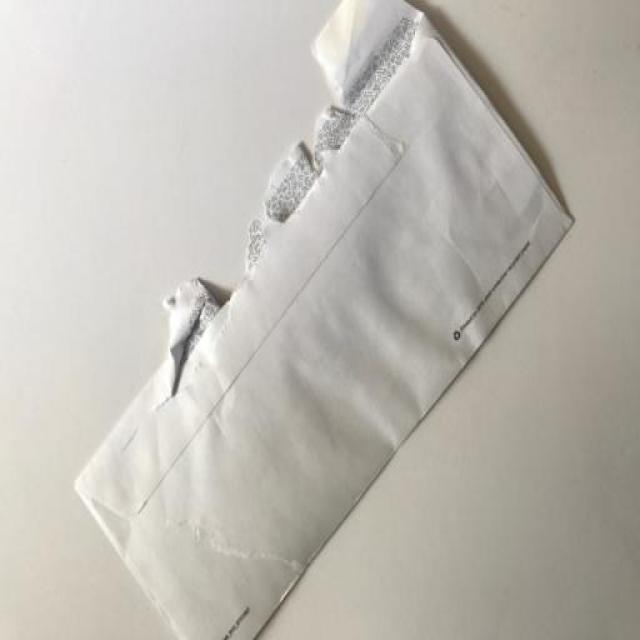paper: (57, 2, 595, 633)
